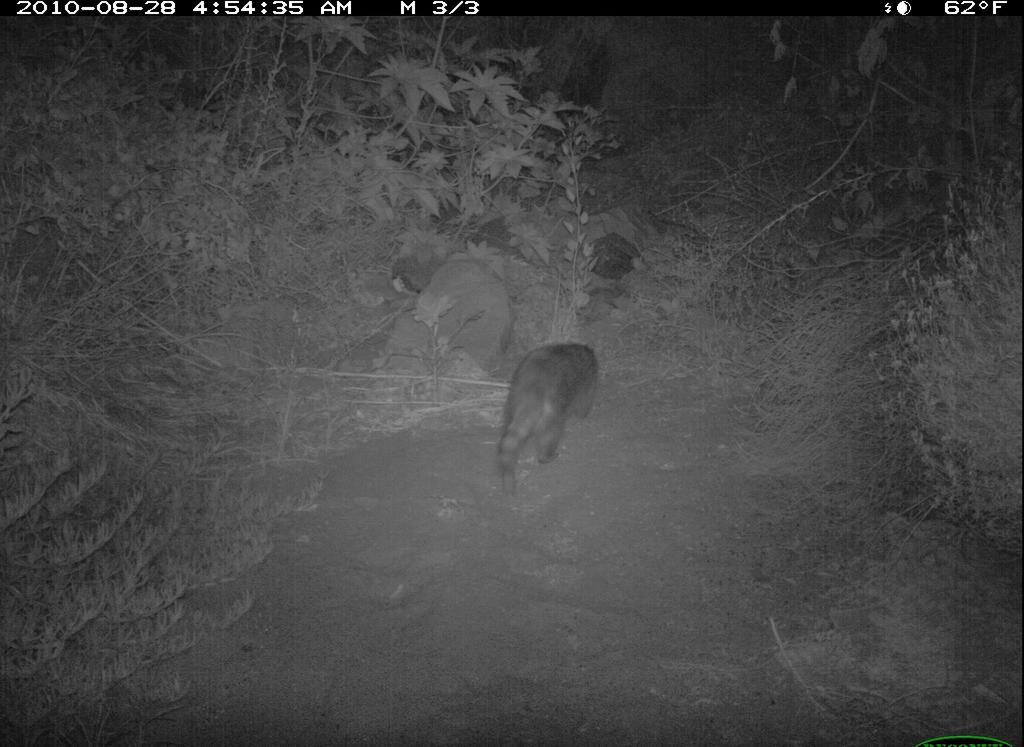raccoon: (491, 337, 609, 507)
